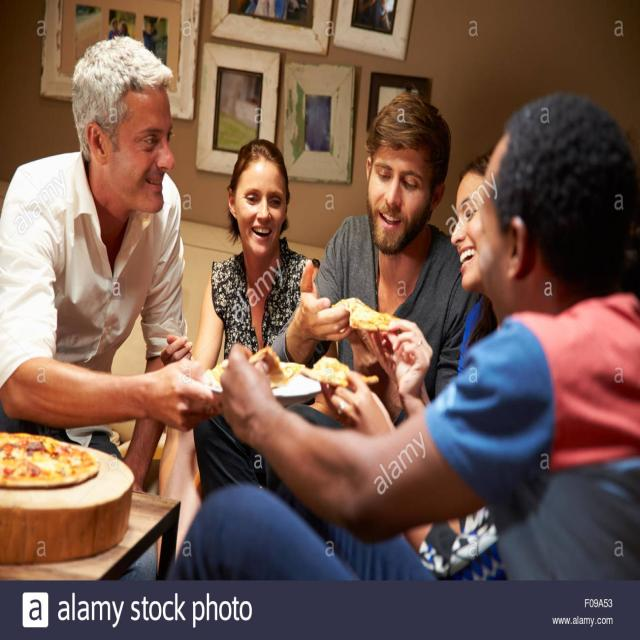body: (0, 30, 222, 581), (265, 89, 485, 431), (265, 85, 479, 428), (157, 136, 323, 505), (364, 145, 500, 419), (104, 8, 157, 41), (228, 0, 312, 19), (351, 0, 396, 25)
